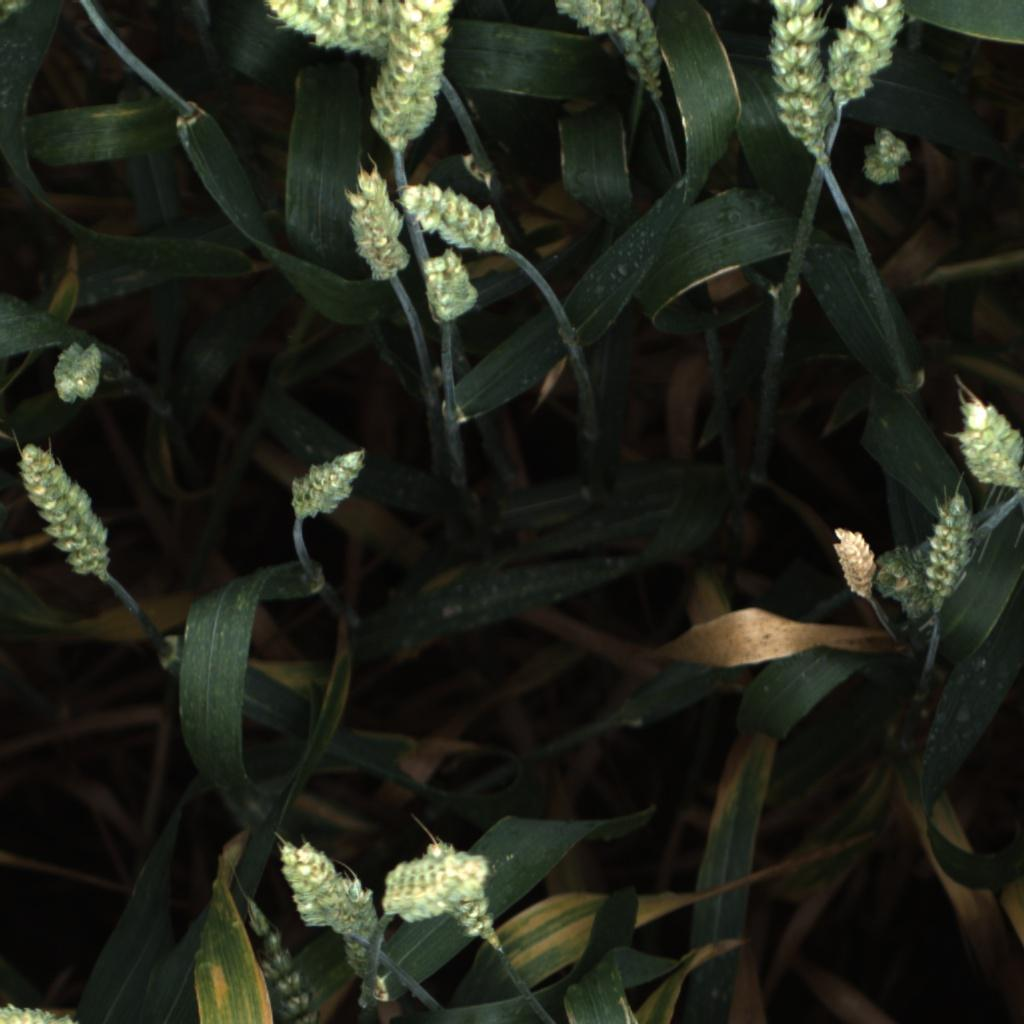0-0: (17, 442, 119, 584), (371, 0, 457, 154), (240, 896, 323, 1024), (421, 838, 505, 961), (757, 0, 826, 149), (829, 0, 911, 115), (377, 847, 491, 925), (339, 163, 412, 284), (398, 181, 512, 258), (863, 535, 947, 626), (254, 0, 391, 53), (950, 390, 1024, 488), (276, 836, 350, 933), (282, 443, 372, 522), (335, 873, 388, 991), (610, 2, 669, 104), (925, 491, 975, 606), (419, 248, 481, 327), (826, 521, 881, 603), (858, 124, 919, 191), (45, 336, 106, 402), (551, 1, 630, 41), (0, 991, 89, 1024)
